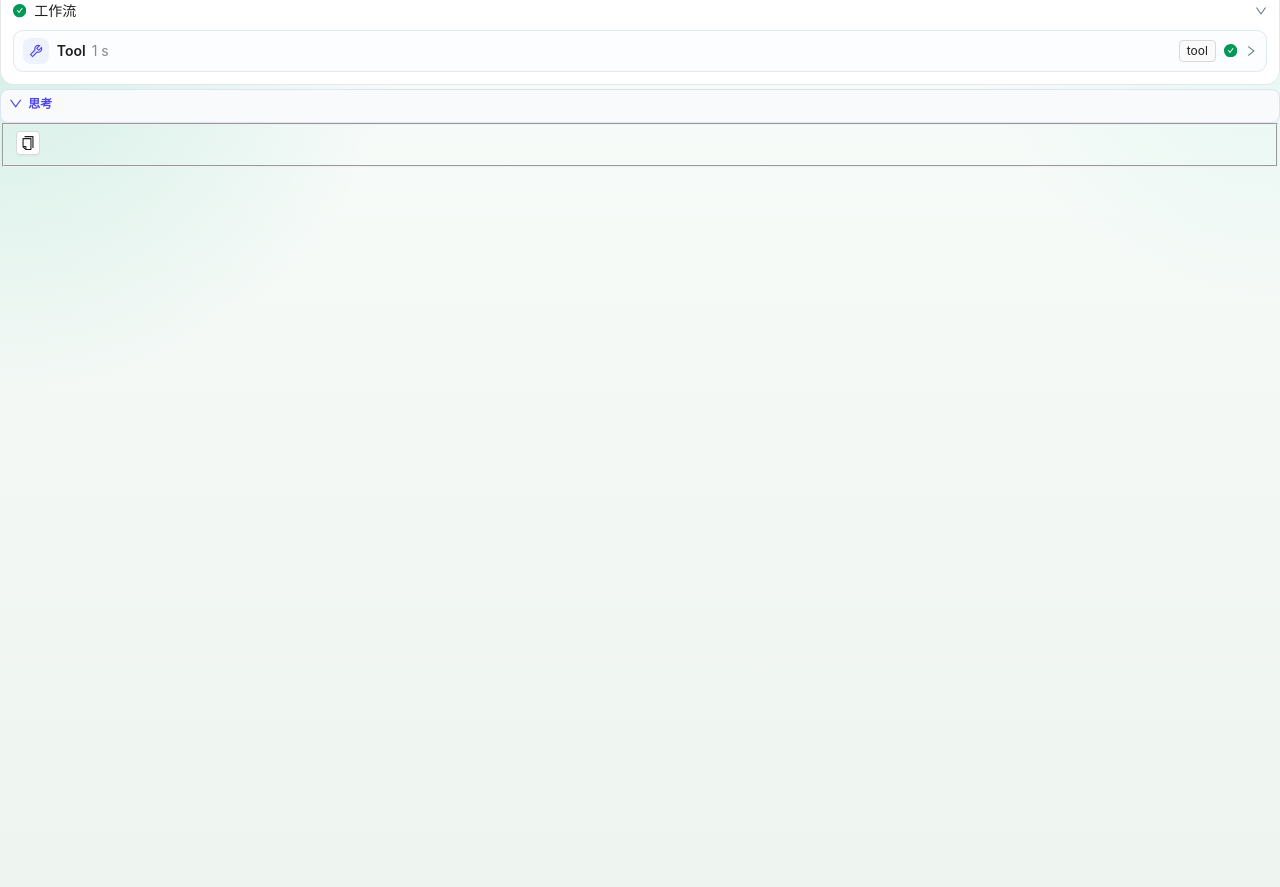
it: DebugAssistantMessage › renders raw debug payload as data processing for trace items
The width and height of the screenshot is (1280, 887).
Click the button "Tool 1 s tool".
click(1197, 51)  # box [14,31,1266,71]
(page scrolled)
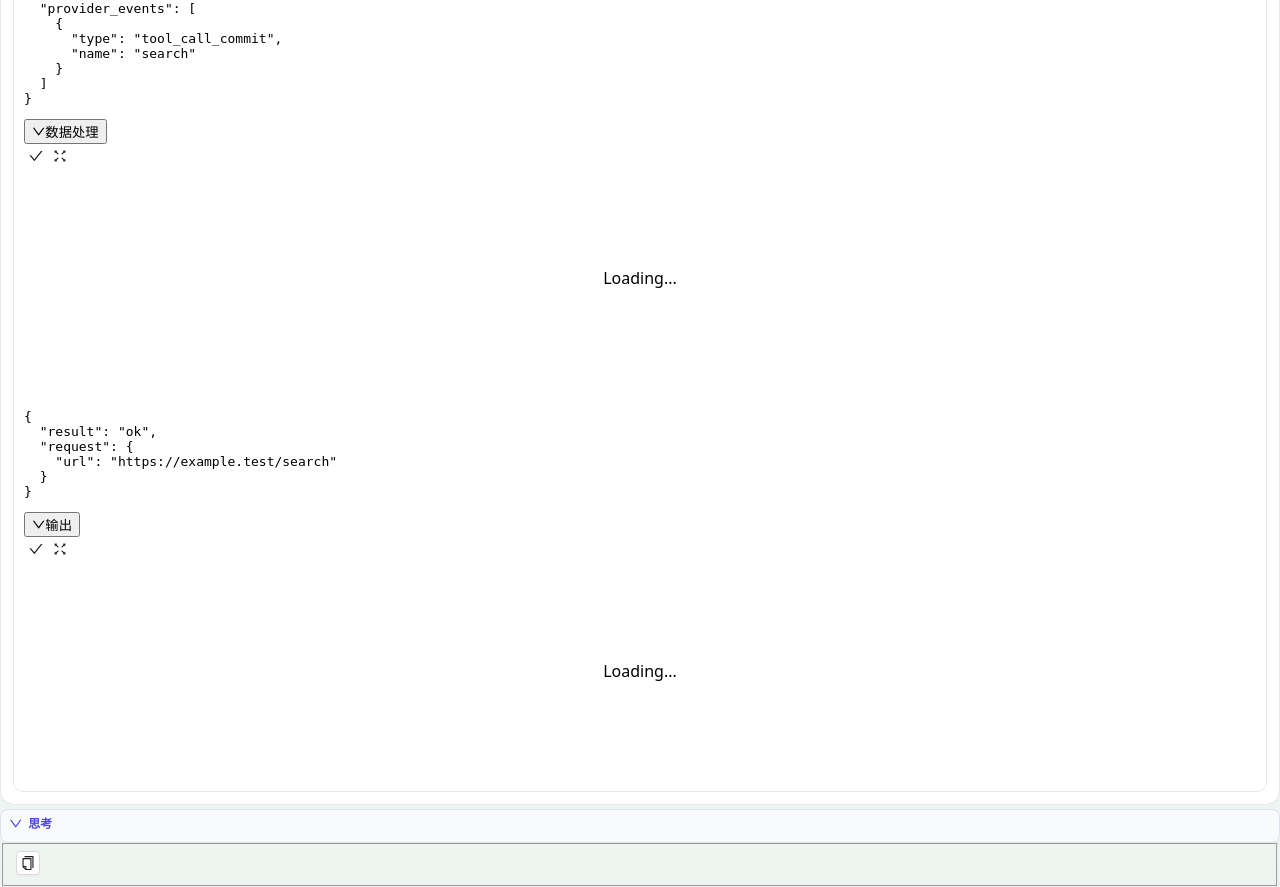
expect the text named "输出 JSON" shows "ok": met, box [24,409,337,499]
expect the text named "输出 JSON" shows "example.test": met, box [24,409,337,499]
